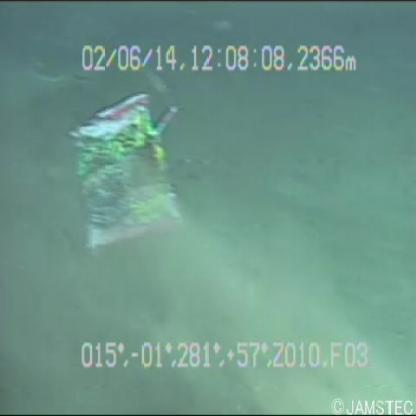Rác: (60, 86, 199, 260)
